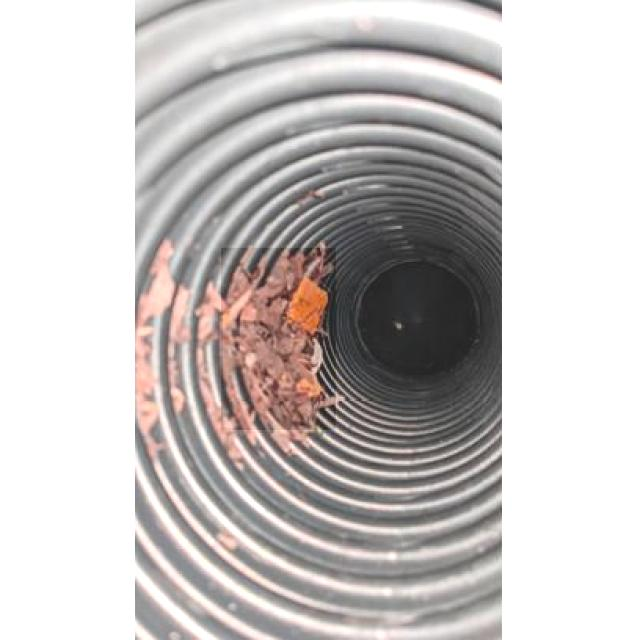dirt: (145, 239, 325, 432)
